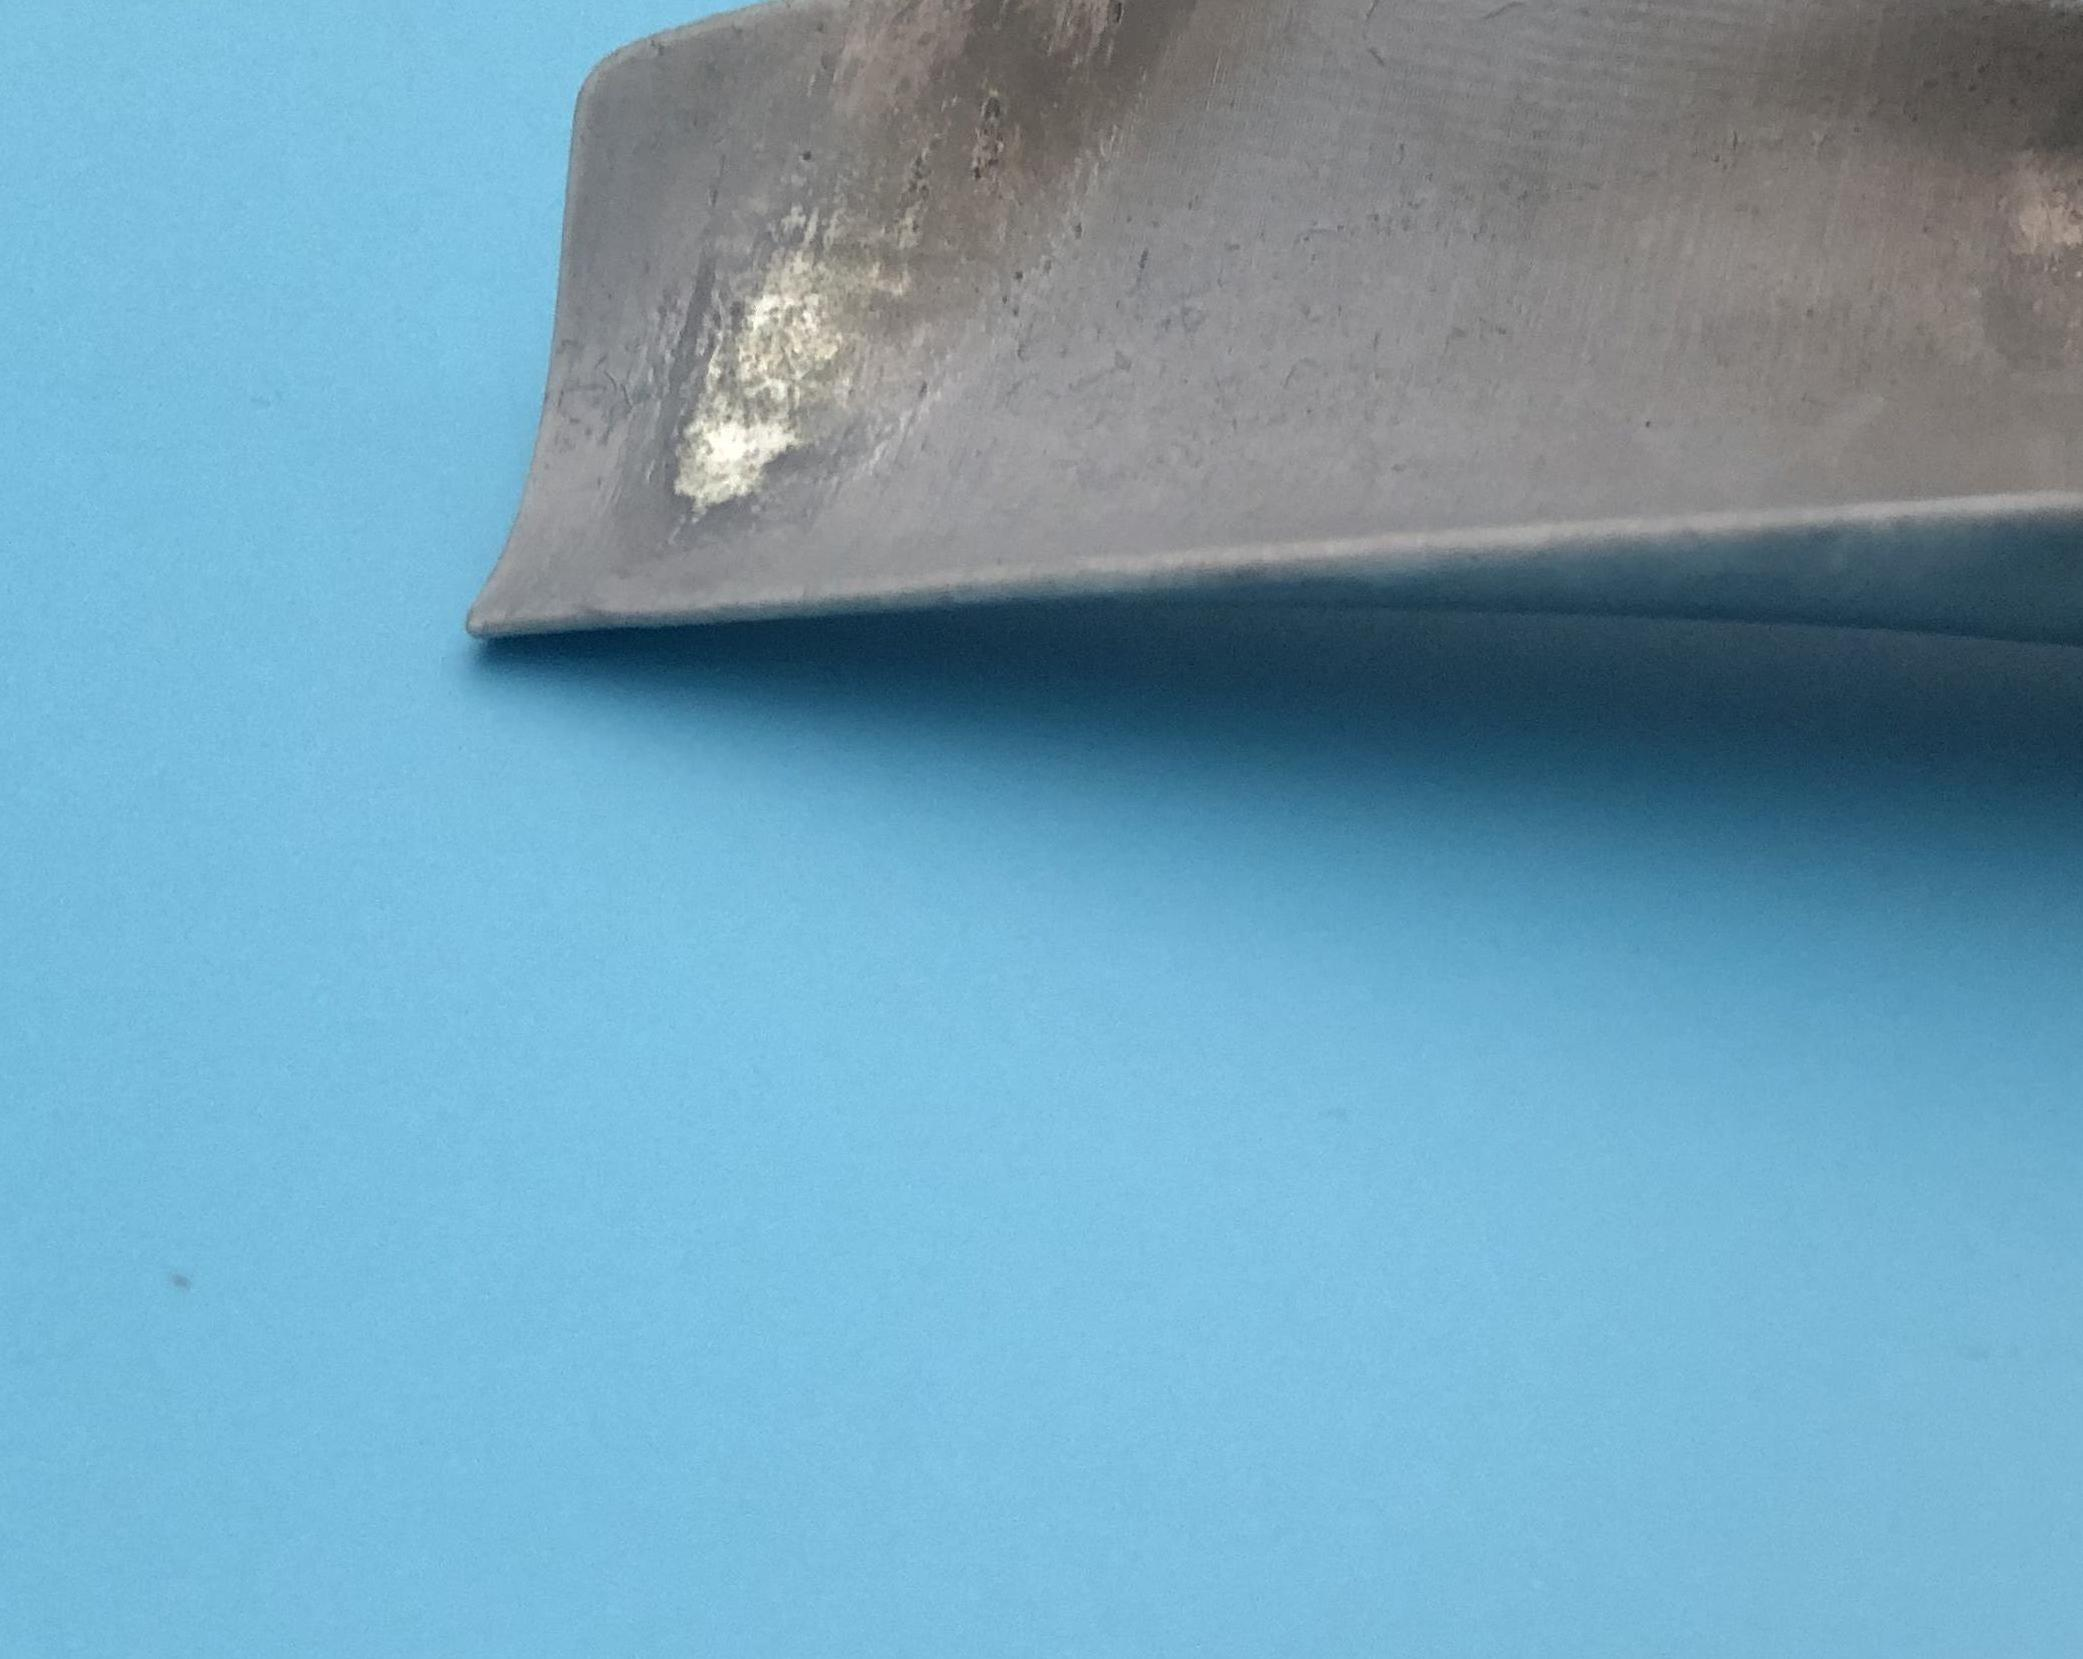ablation: (878, 20, 1183, 229), (1954, 24, 2081, 344)
